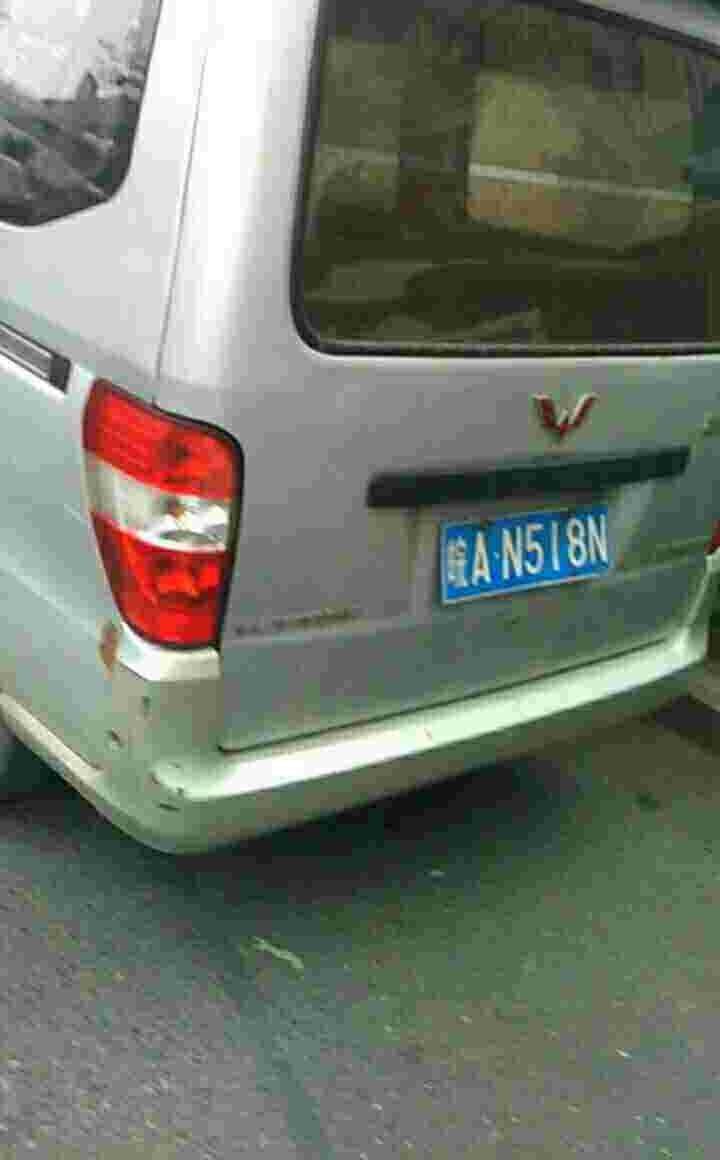car: (441, 529, 626, 582)
